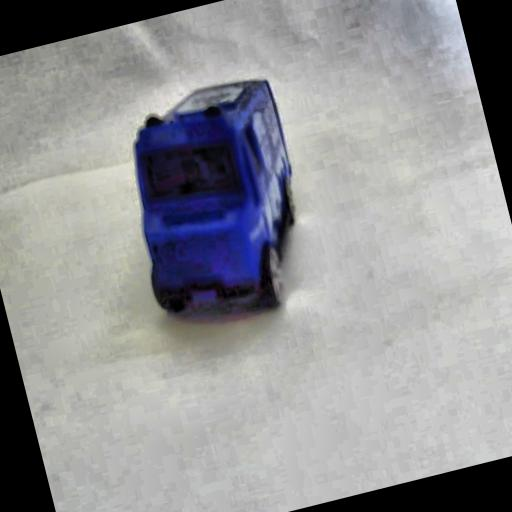police car: (105, 66, 333, 351)
